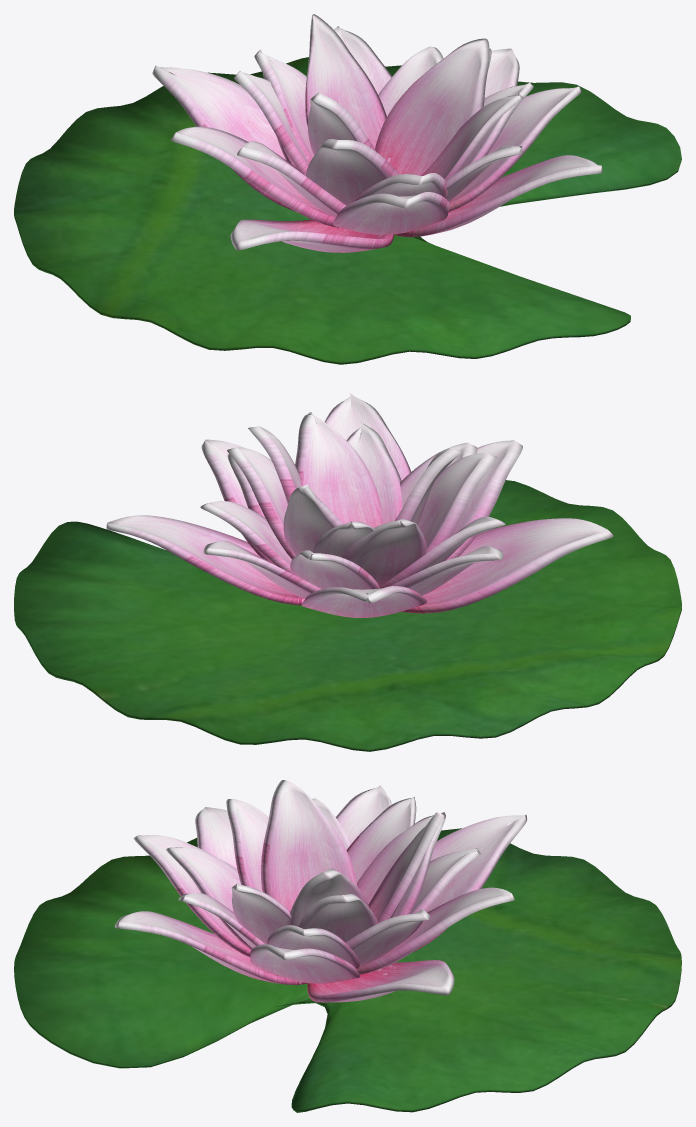
The model's file is lotus2.obj.
3 views of the same model, one above another, from view 1: azimuth 30°, elevation 25°; view 2: azimuth 150°, elevation 25°; view 3: azimuth 270°, elevation 25° (orthographic). The views are drawn at different scales.
Parts seen in each view (by area): view 1: Circle, Plane; view 2: Circle, Plane; view 3: Circle, Plane.
Part boxes in pixels (x1,y1,x2,y2): Circle: (14,57,681,364); Plane: (152,14,602,252); Circle: (14,480,681,751); Plane: (106,393,613,617); Circle: (14,828,681,1112); Plane: (115,780,527,1002).
Bounding box in the file's own units: 7.45 × 2.44 × 7.44.
2 materials, 2 textured.
